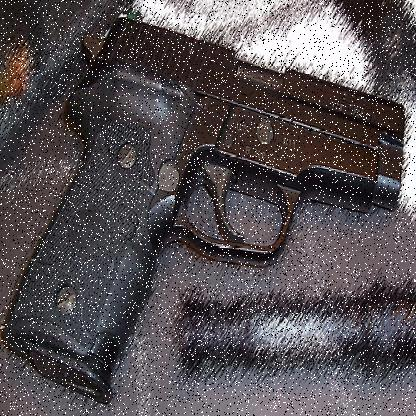pistol: (2, 16, 410, 403)
